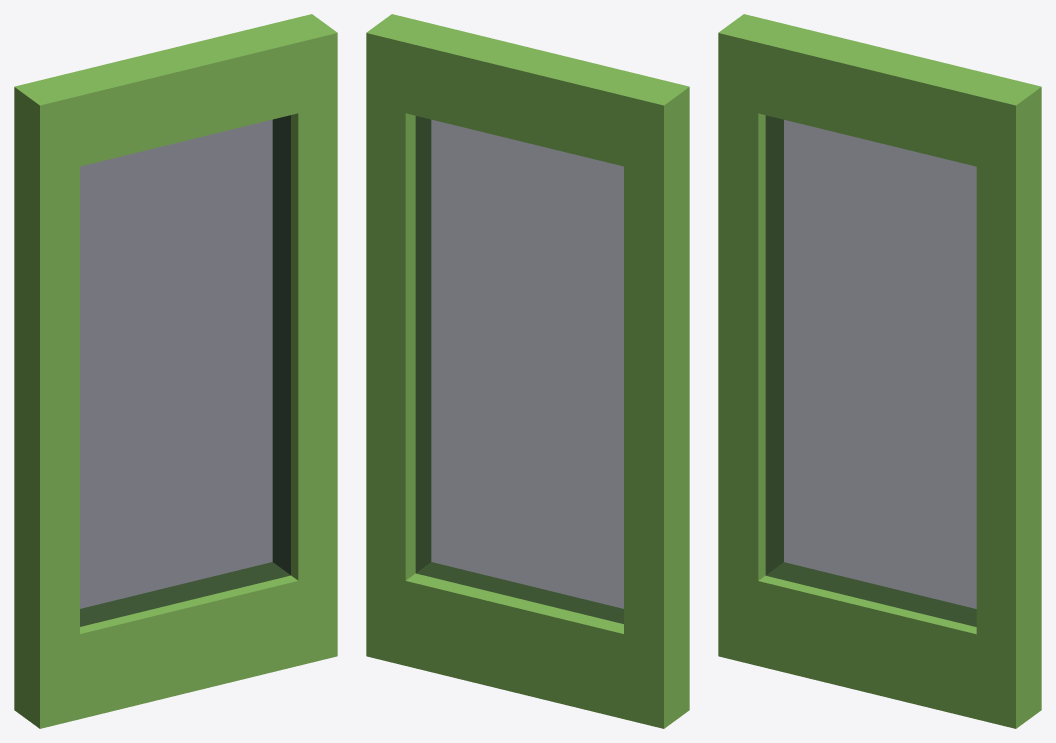
Rendered from LimeWindowLarge.glb.
3 renders of one model, left to right at view 1: azimuth 30°, elevation 25°; view 2: azimuth 150°, elevation 25°; view 3: azimuth 330°, elevation 25°, orthographic.
Parts seen in each view (by area): view 1: wall_largeWindow_lime; view 2: wall_largeWindow_lime; view 3: wall_largeWindow_lime.
Part boxes in pixels (box(x1,y1,x2,y2)): wall_largeWindow_lime: box(14, 14, 337, 728); wall_largeWindow_lime: box(366, 14, 689, 728); wall_largeWindow_lime: box(718, 14, 1041, 728).
Size of what is drawn, in the model's own units: 2 by 4 by 0.3.
2 materials, 2 textured.
